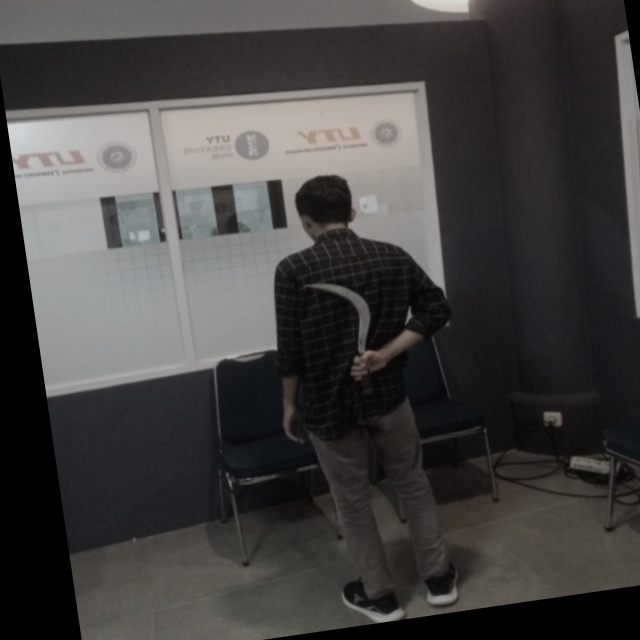Sharp-Object: (294, 264, 392, 404)
